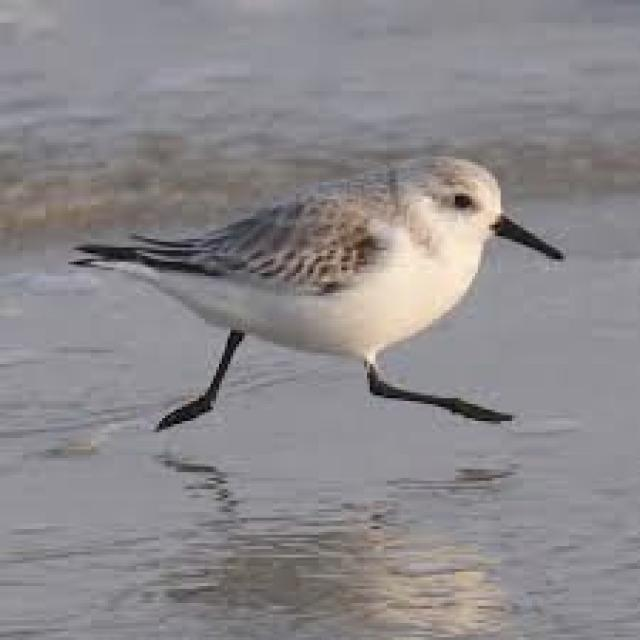sandpiper: (77, 156, 560, 424)
